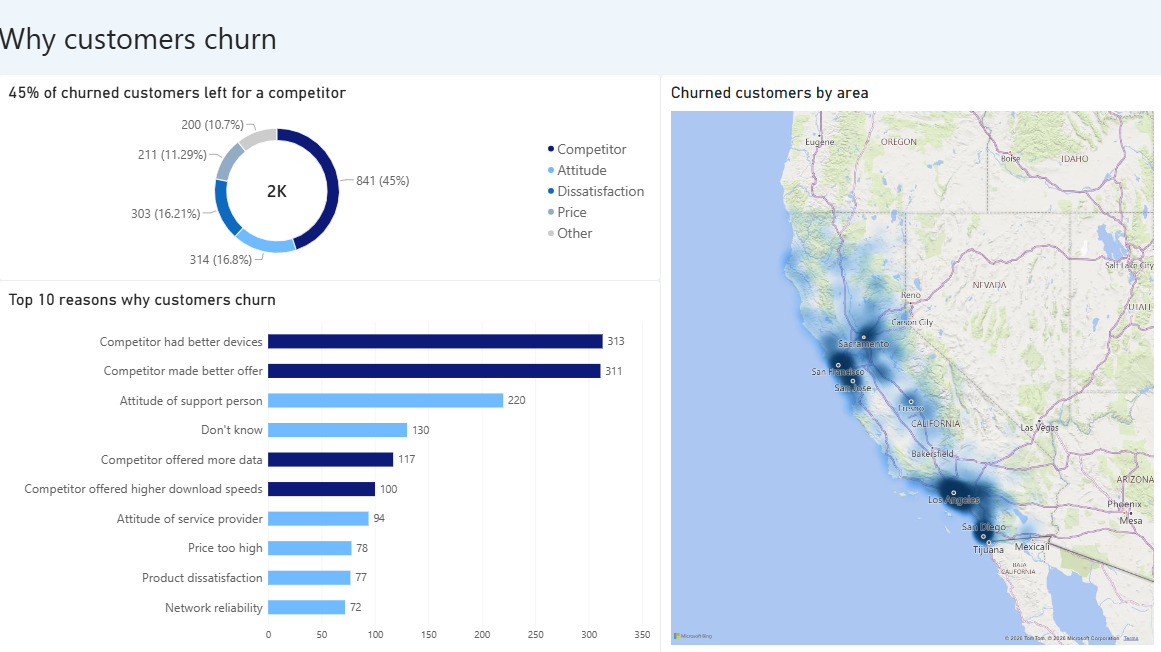

Layout of this report page (visuals, bound fields, positions):
{"tool":"powerbi","page":{"name":"Why they leave","canvas":[1920,1080],"ordinal":2},"visuals":[{"type":"donutChart","title":"45% of churned customers left for a competitor","fields":{"Category":["customer_analysis.churn_category"],"Y":["_Measures.churned customers"]},"box":[0,123.5,1090.9,339.6],"z":0},{"type":"barChart","title":"Top 10 reasons why customers churn","fields":{"Category":["customer_analysis.churn_reason"],"Y":["_Measures.churned customers"]},"box":[0,463.1,1090.9,617.5],"z":1},{"type":"map","title":"Churned customers by area","fields":{"Size":["_Measures.churned customers"],"X":["customer_analysis.longitude"],"Y":["customer_analysis.latitude"]},"box":[1090.9,123.5,829.5,957.1],"z":2},{"type":"textbox","box":[0,30.9,1920.4,92.6],"z":3}]}

Visuals, with their boxes in screenshot pixels (x1, y1, x2, y2), scaled from the page's 1920x1080 canvas onto the 1161x652 screenshot:
"45% of churned customers left for a competitor" donutChart: box=[0, 75, 660, 280]
"Top 10 reasons why customers churn" barChart: box=[0, 280, 660, 651]
"Churned customers by area" map: box=[660, 75, 1160, 651]
textbox: box=[0, 19, 1160, 75]
